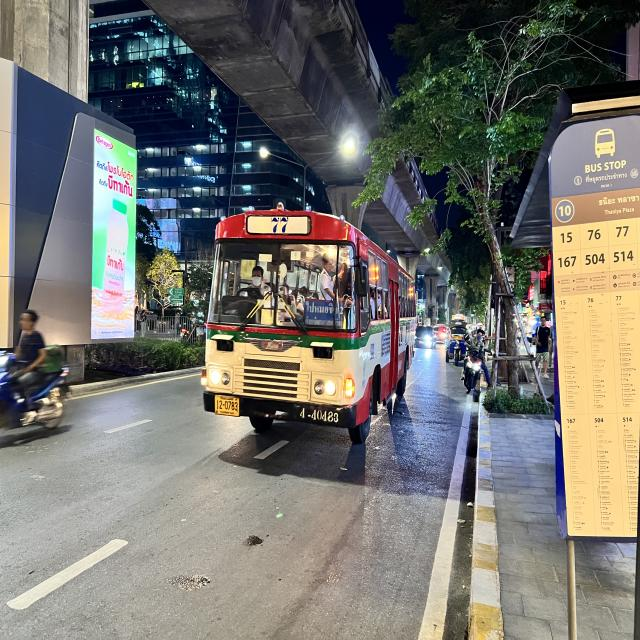BMTA-bus: (200, 199, 419, 447)
Bus-Line-Number: (247, 216, 311, 234)
Destination-Sign-Normal: (304, 299, 343, 330)
